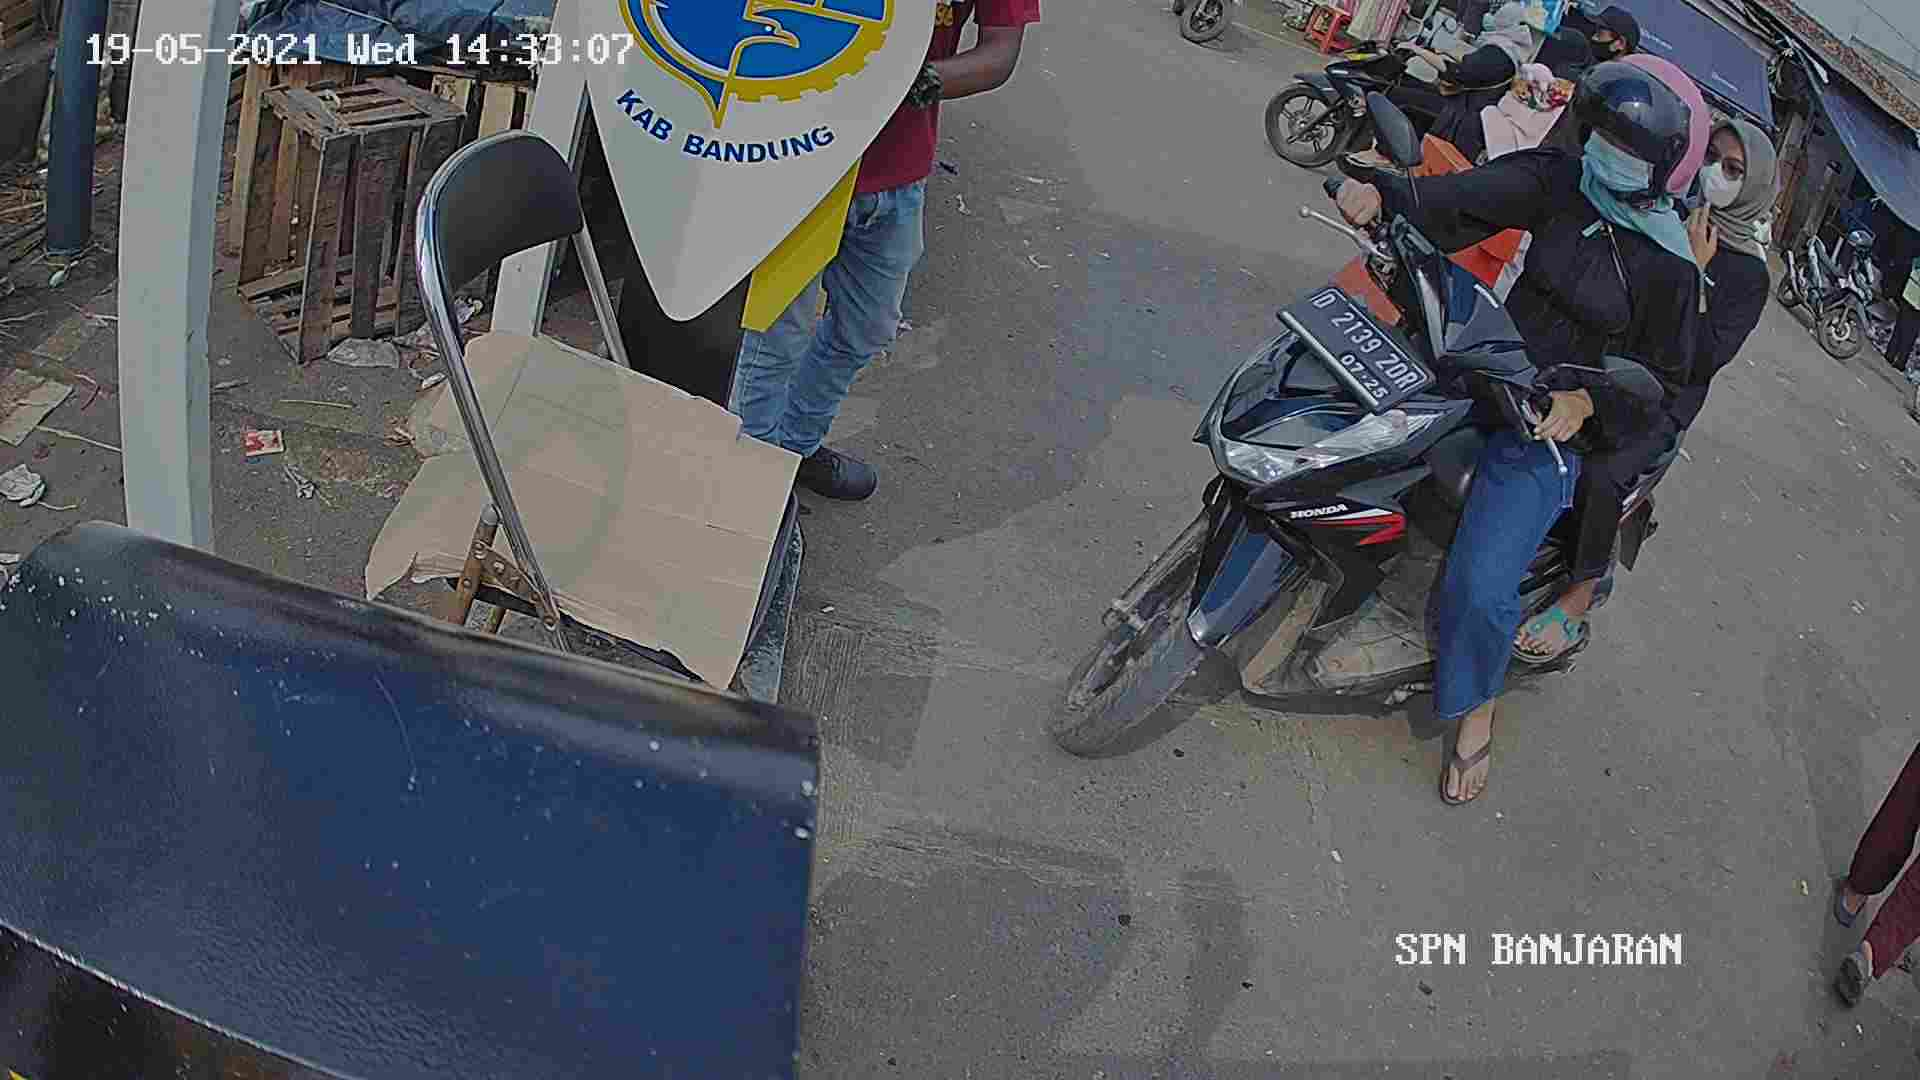motor: (1083, 253, 1685, 815)
